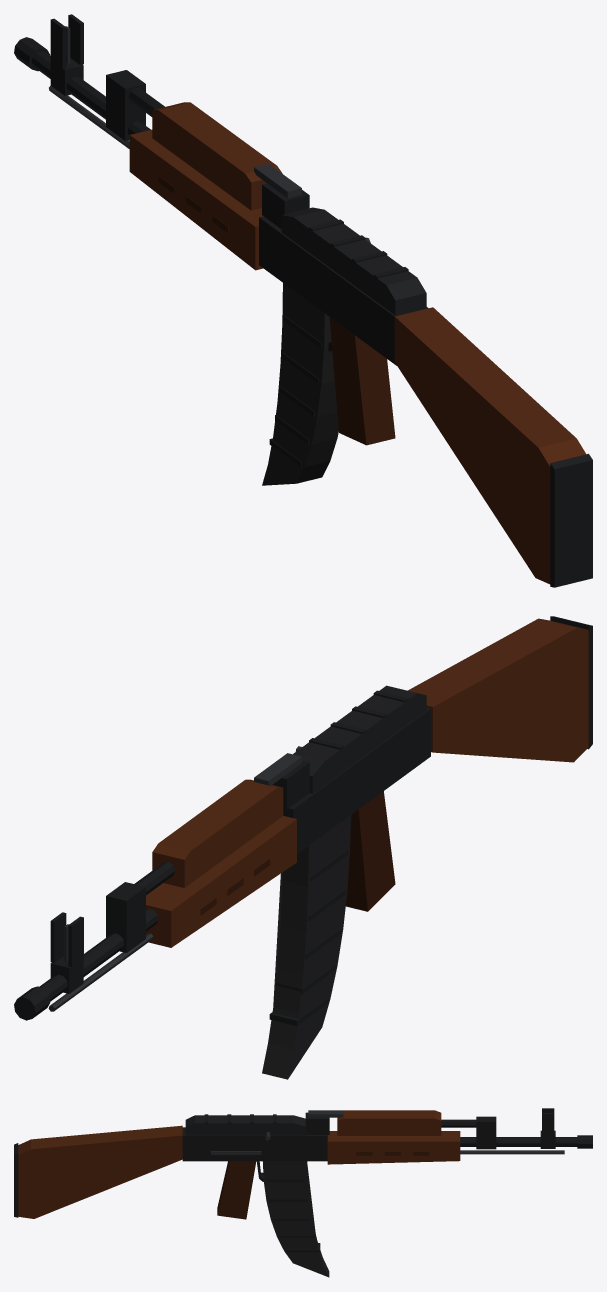
3 views of the same model, one above another, from view 1: azimuth 30°, elevation 25°; view 2: azimuth 150°, elevation 25°; view 3: azimuth 270°, elevation 25° (orthographic). The views are drawn at different scales.
Visible parts, largest first — view 1: ak47; view 2: ak47; view 3: ak47.
Part boxes in pixels (x1,y1,x2,y2): ak47: [14, 14, 592, 587]; ak47: [14, 616, 592, 1079]; ak47: [14, 1108, 592, 1277].
Bounding box in the file's own units: 0.0544 × 0.285 × 0.917.
